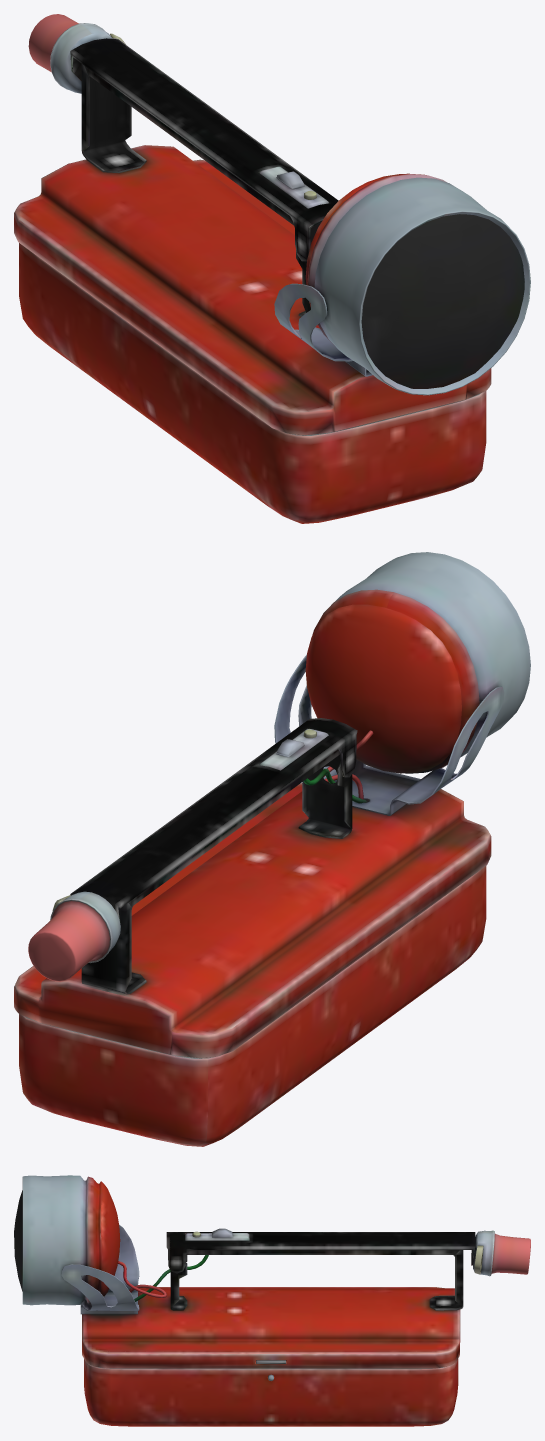
File: vintage_flashlight.glb
The picture shows the model from 3 angles, top to bottom: view 1: azimuth 30°, elevation 25°; view 2: azimuth 150°, elevation 25°; view 3: azimuth 270°, elevation 25°; orthographic projection. The views are drawn at different scales.
Parts seen in each view (by area): view 1: vintage_flashlight; view 2: vintage_flashlight; view 3: vintage_flashlight.
Part boxes in pixels (<box>): vintage_flashlight: <box>14,14,530,523</box>; vintage_flashlight: <box>14,552,530,1146</box>; vintage_flashlight: <box>14,1175,530,1426</box>.
Bounding box in the file's own units: 0.0959 × 0.1443 × 0.3053.
Materials: 2 (2 with a texture image).
